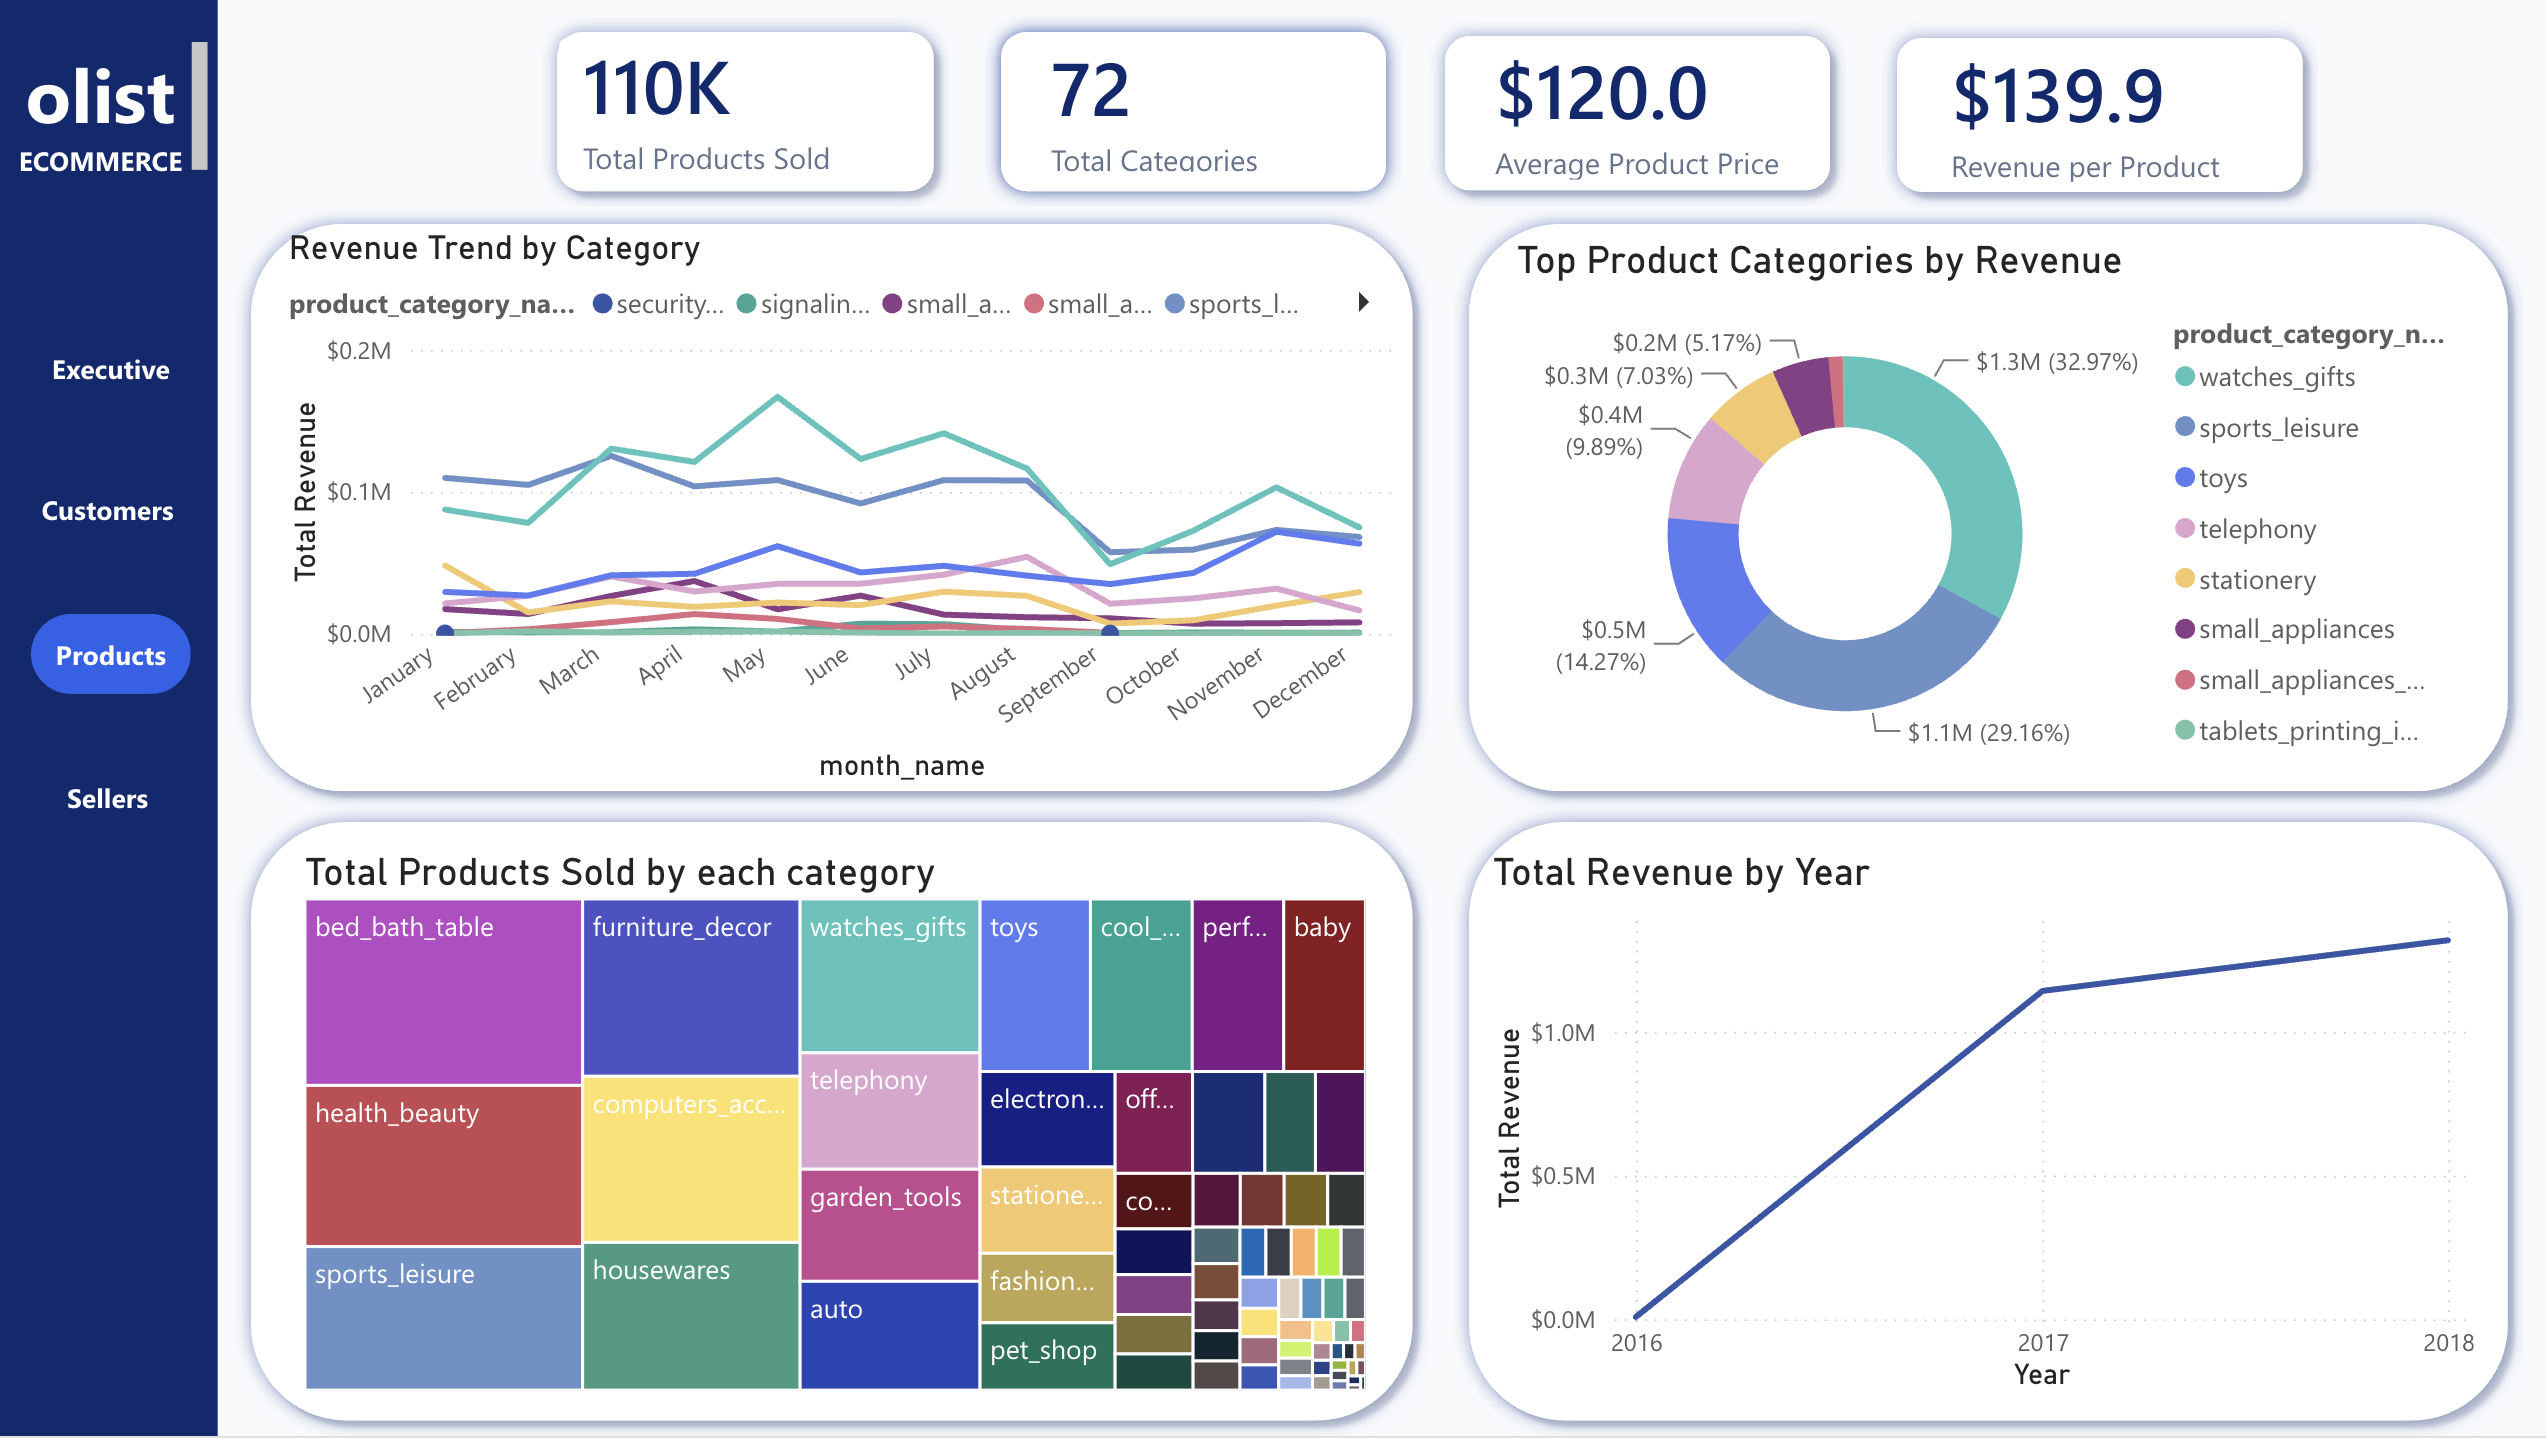

What the dashboard file says about the page in this screenshot:
{"tool":"powerbi","page":{"name":"Product Analytics","canvas":[1280,720],"ordinal":2},"visuals":[{"type":"shape","box":[271.9,9.5,204.7,95.7],"z":0,"group":"g7"},{"type":"shape","box":[494.4,9.9,208.8,95.7],"z":0,"group":"g5"},{"type":"shape","box":[715.9,11.9,208.8,93.3],"z":0,"group":"g8"},{"type":"shape","box":[942.3,12.9,219.2,93.1],"z":0,"group":"g9"},{"type":"group","id":"g1","title":"Group 1","box":[118.1,104.8,597.6,300],"z":0},{"type":"shape","box":[118.1,104.8,597.6,300],"z":0,"group":"g1"},{"type":"shape","box":[727.7,104.8,536.1,300],"z":0,"group":"g3"},{"type":"shape","box":[118.1,404.8,597.6,315.7],"z":0,"group":"g2"},{"type":"shape","box":[727.7,404.8,536.1,315.7],"z":0,"group":"g6"},{"type":"cardVisual","fields":{"Data":["Measures (2).Average Product Price"]},"box":[725.1,8.4,194.8,95.7],"z":1000,"group":"g8"},{"type":"cardVisual","fields":{"Data":["fact_sales.Total Products Sold"]},"box":[268.7,8.9,207.5,90.9],"z":1000,"group":"g7"},{"type":"cardVisual","fields":{"Data":["Measures (2).Total Categories"]},"box":[503.9,9.5,193.8,90.9],"z":1000,"group":"g5"},{"type":"cardVisual","fields":{"Data":["Measures (2).Revenue per Product"]},"box":[953.3,10.5,203.4,94.4],"z":1000,"group":"g9"},{"type":"group","id":"g2","title":"Group 1","box":[118.1,404.8,597.6,315.7],"z":1000},{"type":"group","id":"g3","title":"Group 1","box":[727.7,104.8,536.1,300],"z":2000},{"type":"shape","box":[0,0,109.6,720.5],"z":3000},{"type":"textbox","box":[0,16.9,109.6,75.9],"z":4000},{"type":"actionButton","box":[15.7,165.1,80,40],"z":5000},{"type":"actionButton","box":[14.5,234.9,80.7,41],"z":6000},{"type":"actionButton","box":[14.5,379.5,80.7,41],"z":7000},{"type":"actionButton","box":[15.7,308.4,80,40],"z":8000},{"type":"group","id":"g4","title":"Group 3","box":[268.7,8.4,892.8,97.6],"z":9000},{"type":"group","id":"g5","title":"Group 1","box":[494.4,9.5,208.8,95.7],"z":10000,"group":"g4"},{"type":"group","id":"g6","title":"Group 1","box":[727.7,404.8,536.1,315.7],"z":10000},{"type":"group","id":"g7","title":"Group 2","box":[268.7,8.9,207.9,96.3],"z":11000,"group":"g4"},{"type":"lineChart","title":"Revenue Trend by Category","fields":{"Y":["fact_sales.Total Revenue"],"Category":["dim_date.month_name"],"Series":["dim_product.product_category_name_english"]},"box":[139.8,116.9,562.7,279.5],"z":11000},{"type":"group","id":"g8","title":"Group 1","box":[715.9,8.4,208.8,96.8],"z":12000,"group":"g4"},{"type":"donutChart","title":"Top Product Categories by Revenue","fields":{"Category":["dim_product.product_category_name_english"],"Y":["fact_sales.Total Revenue"]},"box":[755.4,121.7,479.5,274.7],"z":12000},{"type":"group","id":"g9","title":"Group 1","box":[942.3,10.5,219.2,95.5],"z":13000,"group":"g4"},{"type":"treemap","title":"Total Products Sold by each category","fields":{"Group":["dim_product.product_category_name_english"],"Values":["fact_sales.Total Products Sold"]},"box":[148.2,428.9,541,273.5],"z":13000},{"type":"lineChart","title":"Total Revenue by Year","fields":{"Category":["dim_date.date_key.Variation.Date Hierarchy.Year","dim_date.date_key.Variation.Date Hierarchy.Month"],"Y":["fact_sales.Total Revenue"]},"box":[743.4,428.9,501.2,273.5],"z":14000}]}

Visuals, with their boxes on the page's 1280x720 design canvas (x1, y1, x2, y2). These are canvas units, not pixel positions in the 2546x1438 screenshot, which may show the page scaled, cropped or inside an application window:
shape: <box>272,10,477,105</box>
shape: <box>494,10,703,106</box>
shape: <box>716,12,925,105</box>
shape: <box>942,13,1162,106</box>
"Group 1" group: <box>118,105,716,405</box>
shape: <box>118,105,716,405</box>
shape: <box>728,105,1264,405</box>
shape: <box>118,405,716,720</box>
shape: <box>728,405,1264,720</box>
cardVisual - Measures (2).Average Product Price: <box>725,8,920,104</box>
cardVisual - fact_sales.Total Products Sold: <box>269,9,476,100</box>
cardVisual - Measures (2).Total Categories: <box>504,10,698,100</box>
cardVisual - Measures (2).Revenue per Product: <box>953,10,1157,105</box>
"Group 1" group: <box>118,405,716,720</box>
"Group 1" group: <box>728,105,1264,405</box>
shape: <box>0,0,110,720</box>
textbox: <box>0,17,110,93</box>
actionButton: <box>16,165,96,205</box>
actionButton: <box>14,235,95,276</box>
actionButton: <box>14,380,95,420</box>
actionButton: <box>16,308,96,348</box>
"Group 3" group: <box>269,8,1162,106</box>
"Group 1" group: <box>494,10,703,105</box>
"Group 1" group: <box>728,405,1264,720</box>
"Group 2" group: <box>269,9,477,105</box>
"Revenue Trend by Category" lineChart: <box>140,117,702,396</box>
"Group 1" group: <box>716,8,925,105</box>
"Top Product Categories by Revenue" donutChart: <box>755,122,1235,396</box>
"Group 1" group: <box>942,10,1162,106</box>
"Total Products Sold by each category" treemap: <box>148,429,689,702</box>
"Total Revenue by Year" lineChart: <box>743,429,1245,702</box>
